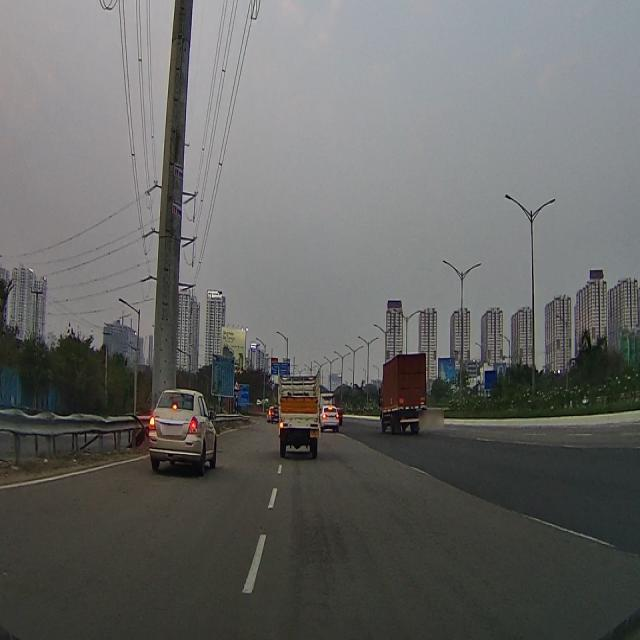left-hand-curve: (234, 380, 240, 392)
